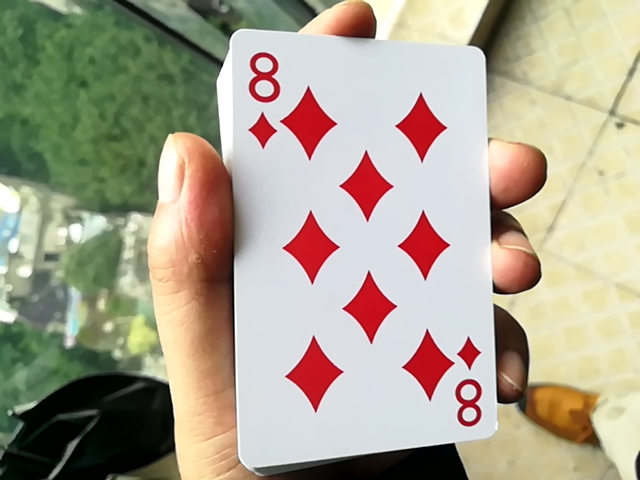fk 8: (214, 9, 492, 469)
